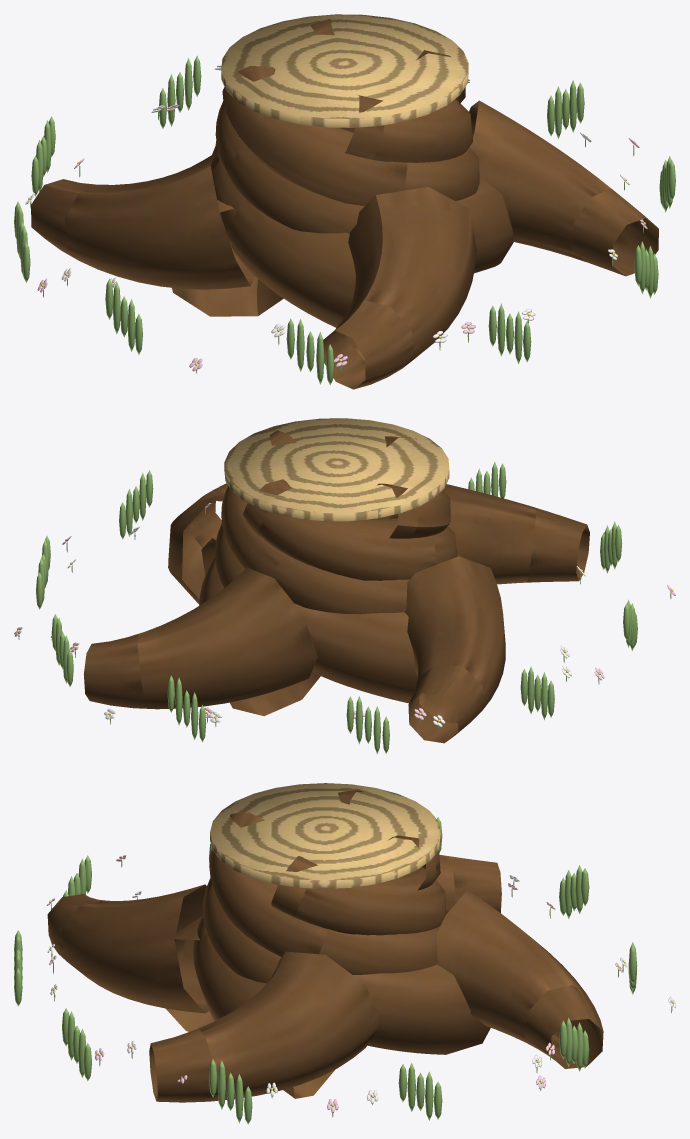
The model's file is gourd-prop-stump.glb.
The picture shows the model from 3 angles, top to bottom: view 1: azimuth 30°, elevation 25°; view 2: azimuth 150°, elevation 25°; view 3: azimuth 270°, elevation 25°; orthographic projection. The views are drawn at different scales.
Parts seen in each view (by area): view 1: bark, cut-top, tuft3, tuft2, tuft4, tuft7, tuft9, tuft6, tuft1, tuft5, tuft0; view 2: bark, cut-top, tuft7, tuft6, tuft0, tuft5, tuft8, tuft3, tuft2, tuft9, tuft4; view 3: bark, cut-top, tuft0, tuft9, tuft1, tuft6, tuft8, tuft3, tuft2.
Boxes of the visible parts, <box> form: bark: <box>31,19,658,389</box>; cut-top: <box>221,14,468,127</box>; tuft3: <box>286,318,334,385</box>; tuft2: <box>488,303,531,364</box>; tuft4: <box>105,278,142,354</box>; tuft7: <box>159,55,201,128</box>; tuft9: <box>547,80,584,138</box>; tuft6: <box>31,116,55,196</box>; tuft1: <box>634,241,658,298</box>; tuft5: <box>14,201,30,282</box>; tuft0: <box>659,155,675,212</box>; bark: <box>83,430,589,743</box>; cut-top: <box>224,418,449,521</box>; tuft7: <box>167,675,206,742</box>; tuft6: <box>346,696,389,754</box>; tuft0: <box>119,470,153,539</box>; tuft5: <box>520,666,554,720</box>; tuft8: <box>51,614,73,686</box>; tuft3: <box>600,521,622,573</box>; tuft2: <box>468,461,506,498</box>; tuft9: <box>36,535,50,609</box>; tuft4: <box>623,599,637,650</box>; bark: <box>47,790,603,1102</box>; cut-top: <box>210,783,440,888</box>; tuft0: <box>208,1059,252,1124</box>; tuft9: <box>398,1063,442,1120</box>; tuft1: <box>62,1008,91,1081</box>; tuft6: <box>559,865,589,918</box>; tuft8: <box>559,1017,589,1071</box>; tuft3: <box>63,855,91,896</box>; tuft2: <box>14,930,22,1006</box>.
Bounding box in the file's own units: 0.1963 × 0.0755 × 0.2025.
Materials: 6 (2 with a texture image).
